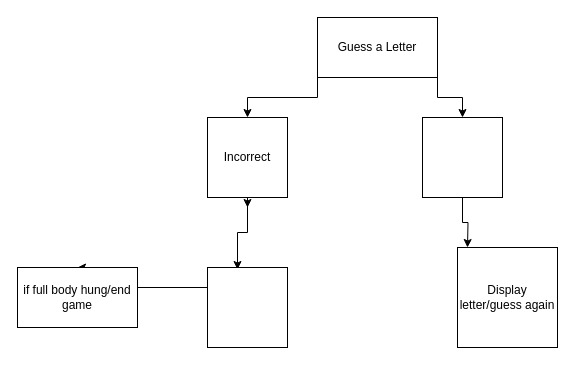
Some shapes in this 575 by 373 pixel diagram are drawn without their labels. Each missing label, with the centre of its shape:
"Add a limb" goes at (x=247, y=307).
"Correct" goes at (x=462, y=157).
